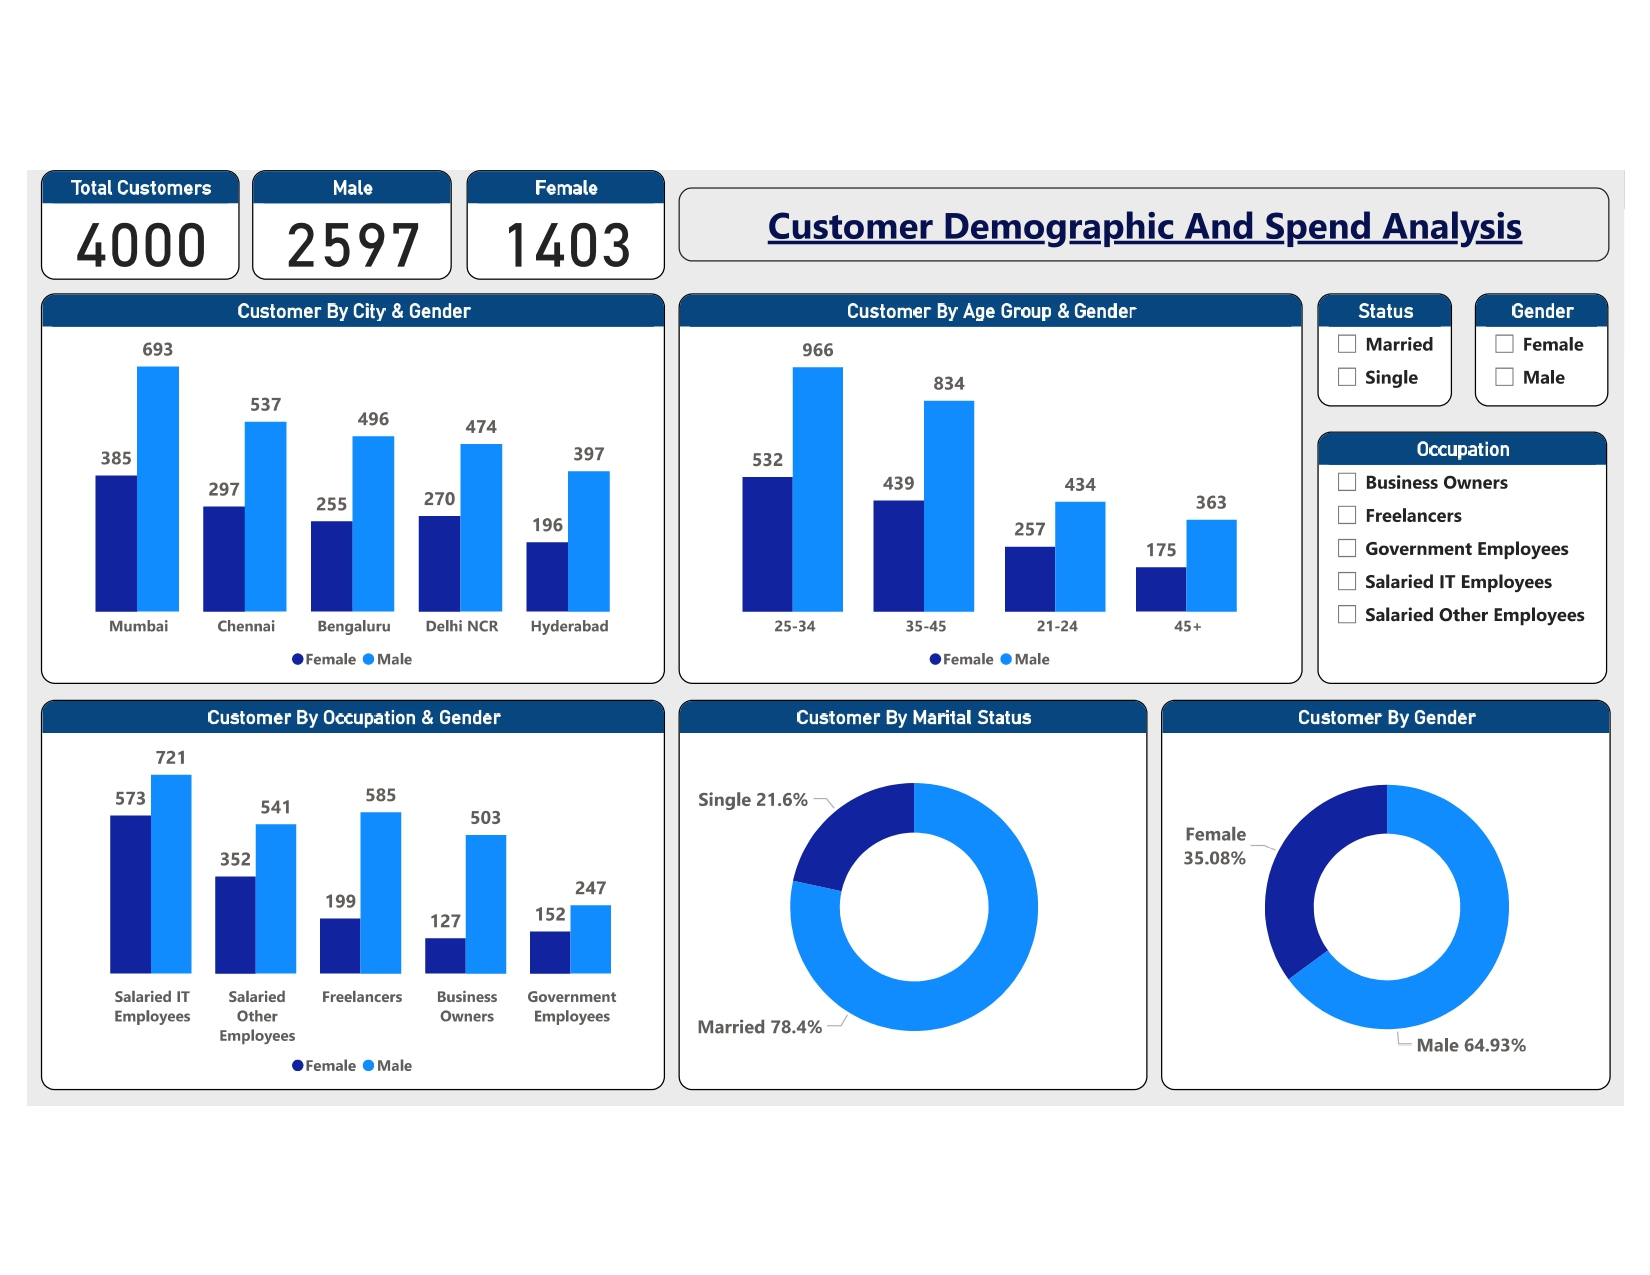

The page's visual inventory and layout, read from the dashboard file:
{"tool":"powerbi","page":{"name":"Demographic Analysis","canvas":[1400,820],"ordinal":0},"visuals":[{"type":"card","title":"Total Customers","fields":{"Values":["Count(dim_customers.customer_id)"]},"box":[11.6,0,174.2,96.2],"z":0},{"type":"card","title":"Male","fields":{"Values":["Sum(dim_customers.Males)"]},"box":[197.4,0,174.2,96.2],"z":1000},{"type":"card","title":"Female","fields":{"Values":["Sum(dim_customers.Females)"]},"box":[384.8,0,174.2,96.2],"z":2000},{"type":"clusteredColumnChart","title":"Customer By City & Gender","fields":{"Category":["dim_customers.city"],"Series":["dim_customers.gender"],"Y":["CountNonNull(dim_customers.customer_id)"]},"box":[11.6,107.8,547.4,341.7],"z":3000},{"type":"clusteredColumnChart","title":"Customer By Occupation & Gender","fields":{"Series":["dim_customers.gender"],"Y":["CountNonNull(dim_customers.customer_id)"],"Category":["dim_customers.occupation"]},"box":[11.6,464.5,547.4,341.7],"z":4000},{"type":"clusteredColumnChart","title":"Customer By Age Group & Gender","fields":{"Series":["dim_customers.gender"],"Y":["CountNonNull(dim_customers.customer_id)"],"Category":["dim_customers.age_group"]},"box":[570.6,107.8,547.4,341.7],"z":5000},{"type":"donutChart","title":"Customer By Marital Status","fields":{"Y":["CountNonNull(dim_customers.customer_id)"],"Category":["dim_customers.marital status"]},"box":[570.6,464.5,411.4,341.7],"z":6000},{"type":"donutChart","title":"Customer By Gender","fields":{"Y":["CountNonNull(dim_customers.customer_id)"],"Category":["dim_customers.gender"]},"box":[993.6,464.5,394.8,341.7],"z":7000},{"type":"slicer","title":"Gender","fields":{"Values":["dim_customers.gender"]},"box":[1269.5,107.8,116.9,98.7],"z":8000},{"type":"textbox","box":[570.6,14.9,816.1,64.7],"z":11001},{"type":"slicer","title":"Status","fields":{"Values":["dim_customers.marital status"]},"box":[1131.3,107.8,117.8,99.5],"z":11002},{"type":"slicer","title":"Occupation","fields":{"Values":["dim_customers.occupation"]},"box":[1131.3,228.9,253.8,220.6],"z":11003}]}

Visuals, with their boxes on the page's 1400x820 design canvas (x1, y1, x2, y2). These are canvas units, not pixel positions in the 1650x1275 screenshot, which may show the page scaled, cropped or inside an application window:
"Total Customers" card: <box>12,0,186,96</box>
"Male" card: <box>197,0,372,96</box>
"Female" card: <box>385,0,559,96</box>
"Customer By City & Gender" clusteredColumnChart: <box>12,108,559,450</box>
"Customer By Occupation & Gender" clusteredColumnChart: <box>12,464,559,806</box>
"Customer By Age Group & Gender" clusteredColumnChart: <box>571,108,1118,450</box>
"Customer By Marital Status" donutChart: <box>571,464,982,806</box>
"Customer By Gender" donutChart: <box>994,464,1388,806</box>
"Gender" slicer: <box>1270,108,1386,206</box>
textbox: <box>571,15,1387,80</box>
"Status" slicer: <box>1131,108,1249,207</box>
"Occupation" slicer: <box>1131,229,1385,450</box>
